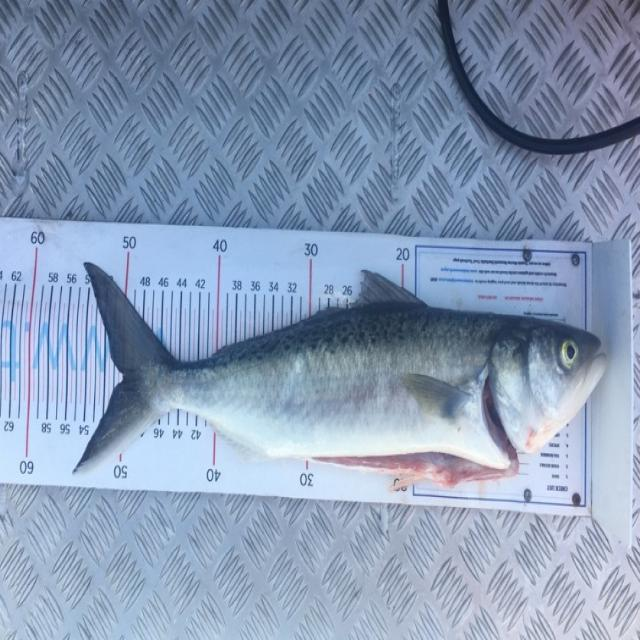Australian Salmon: (69, 227, 612, 495)
